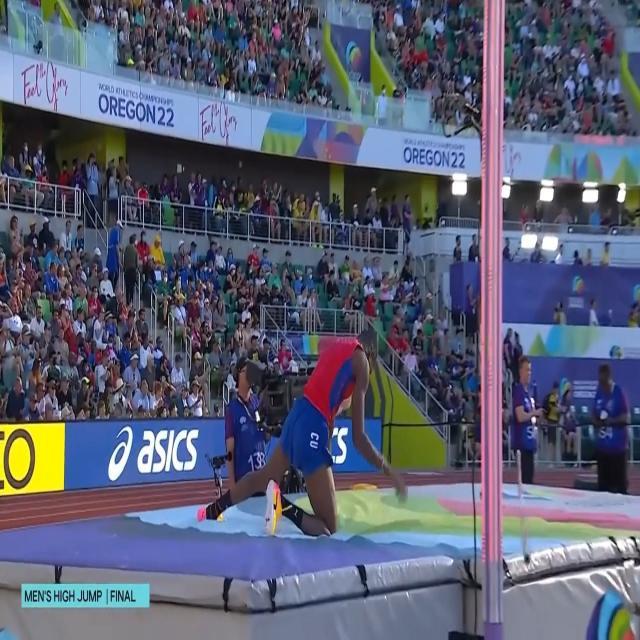land: (197, 322, 409, 540)
